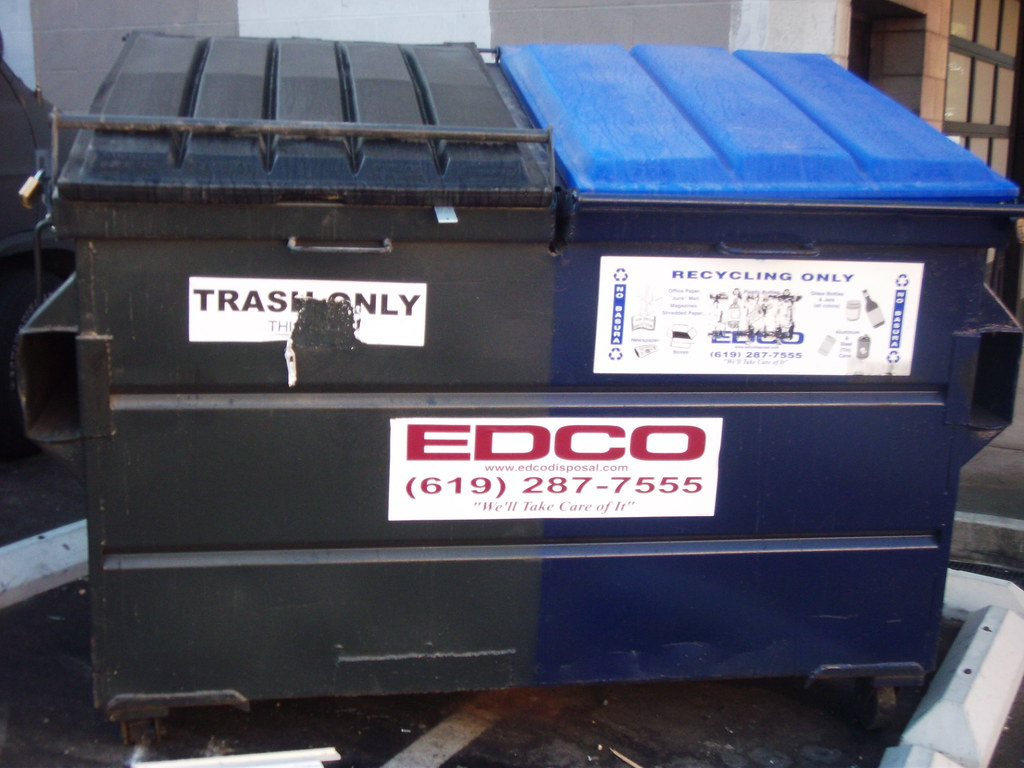Dumpster: (50, 20, 1018, 721)
